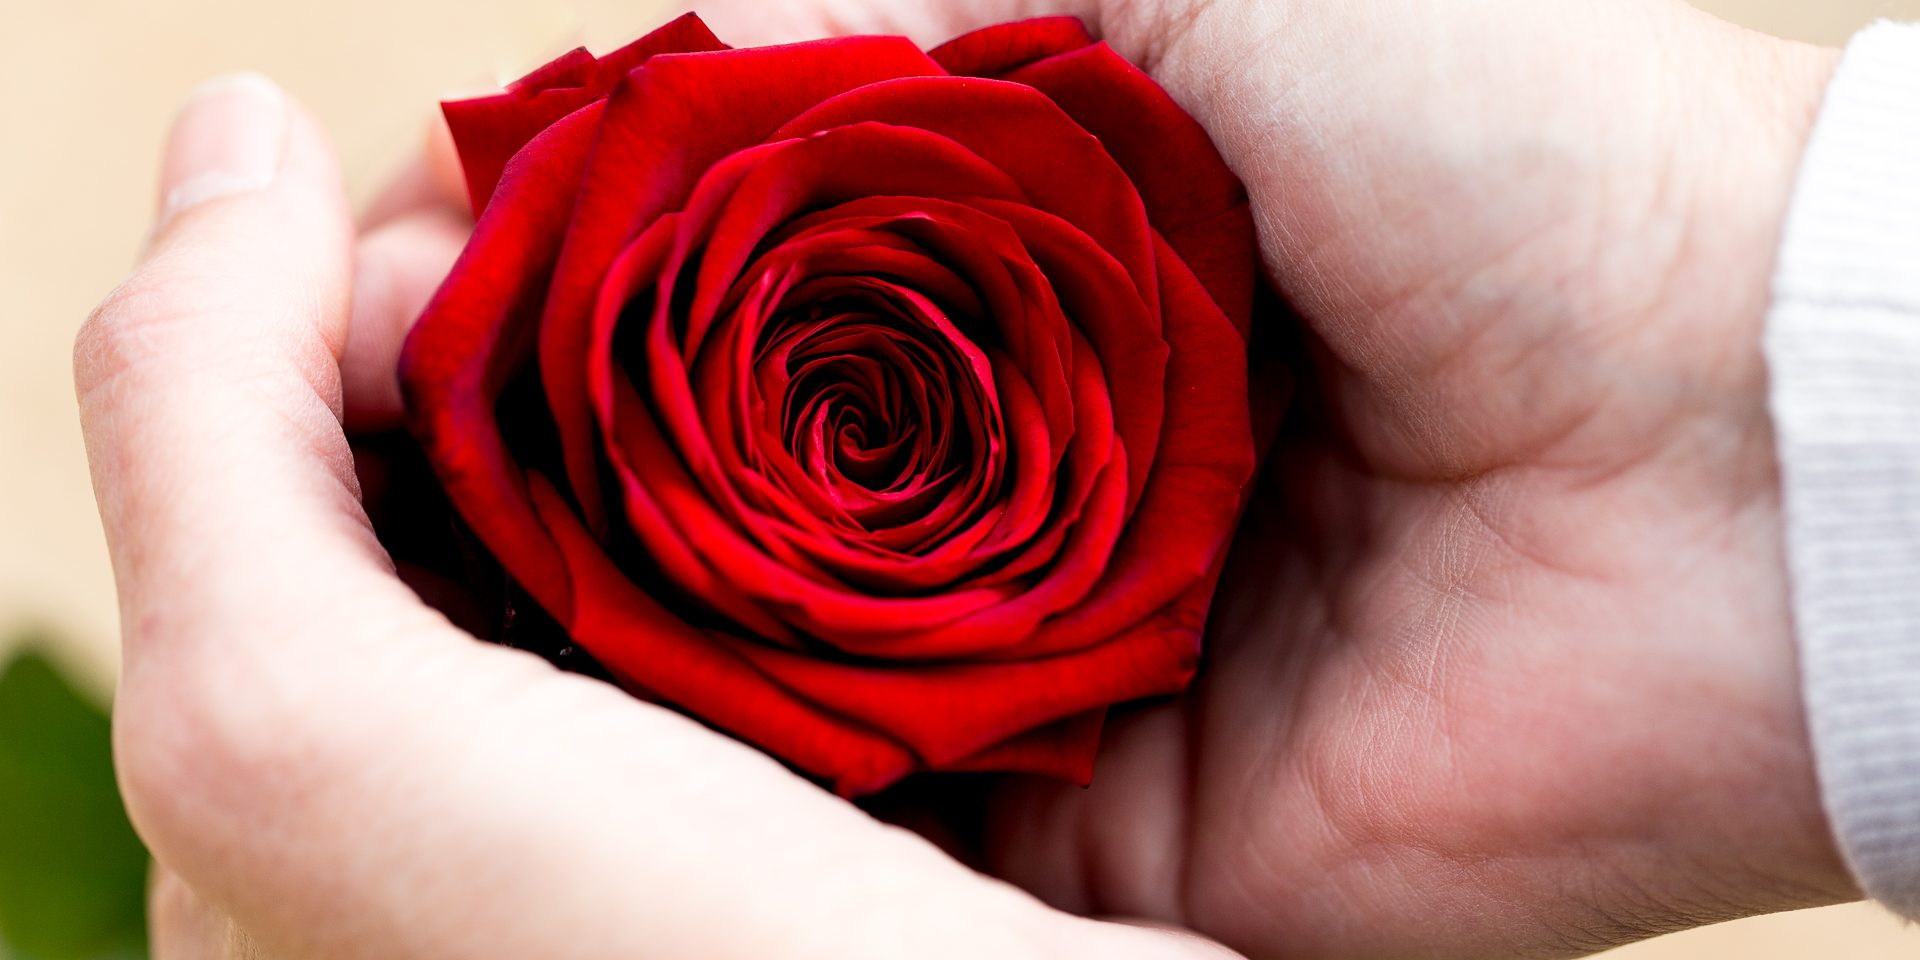rose: (391, 4, 1318, 804)
